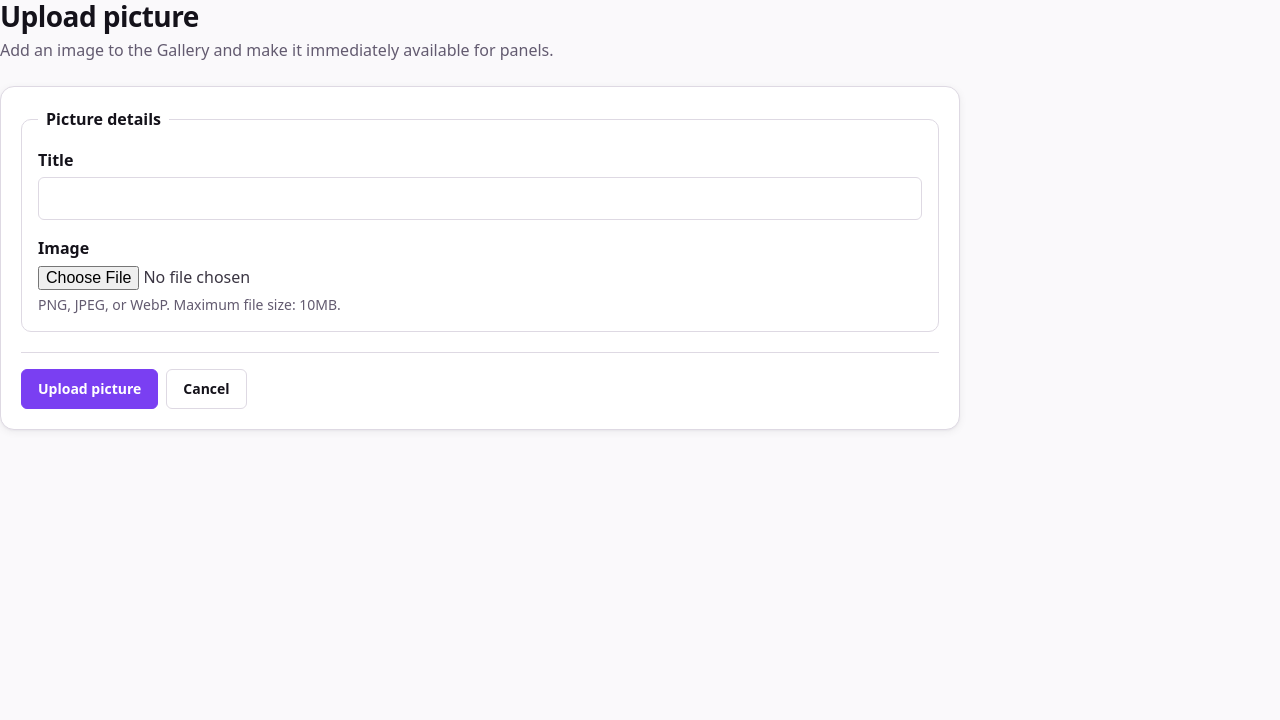
Scenario: GalleryUploadPage › protects unsaved changes when canceling
Type "Unfinished" into the field labelled "Title" at {"x": 480, "y": 198}, box [38,177,922,220]
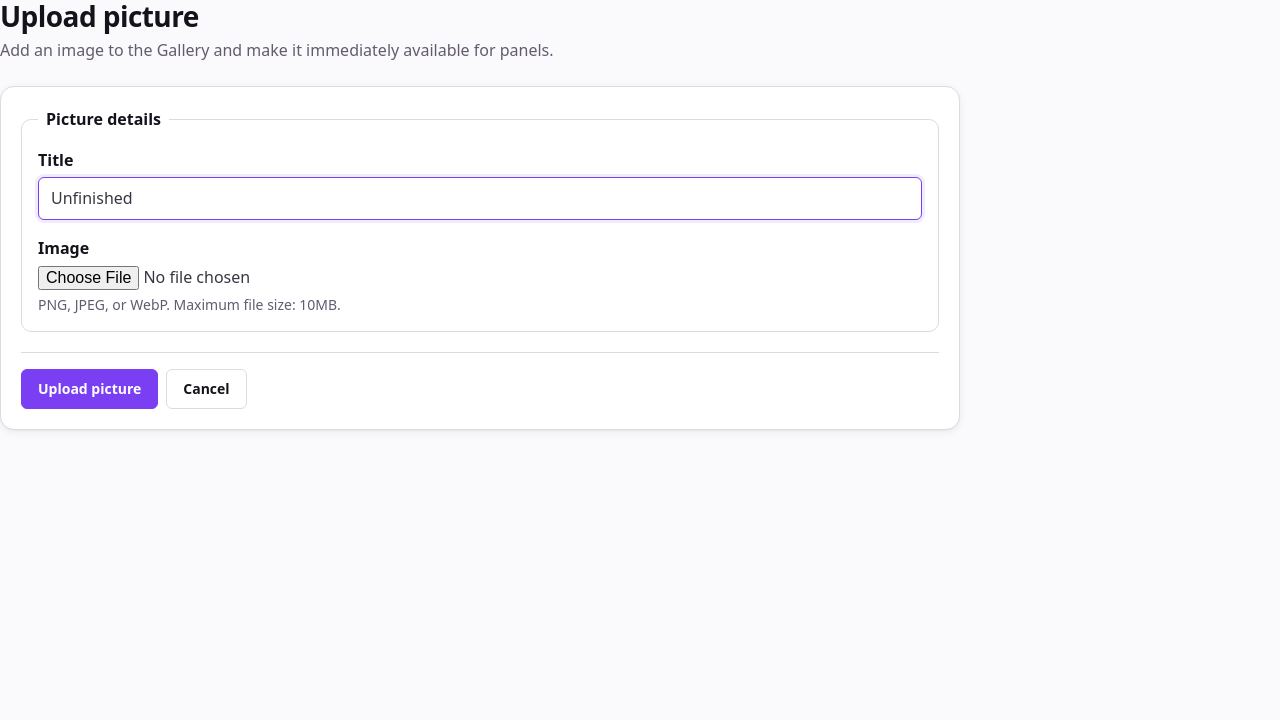
Click the button "Cancel" at {"x": 206, "y": 389}, box [166,369,247,409]
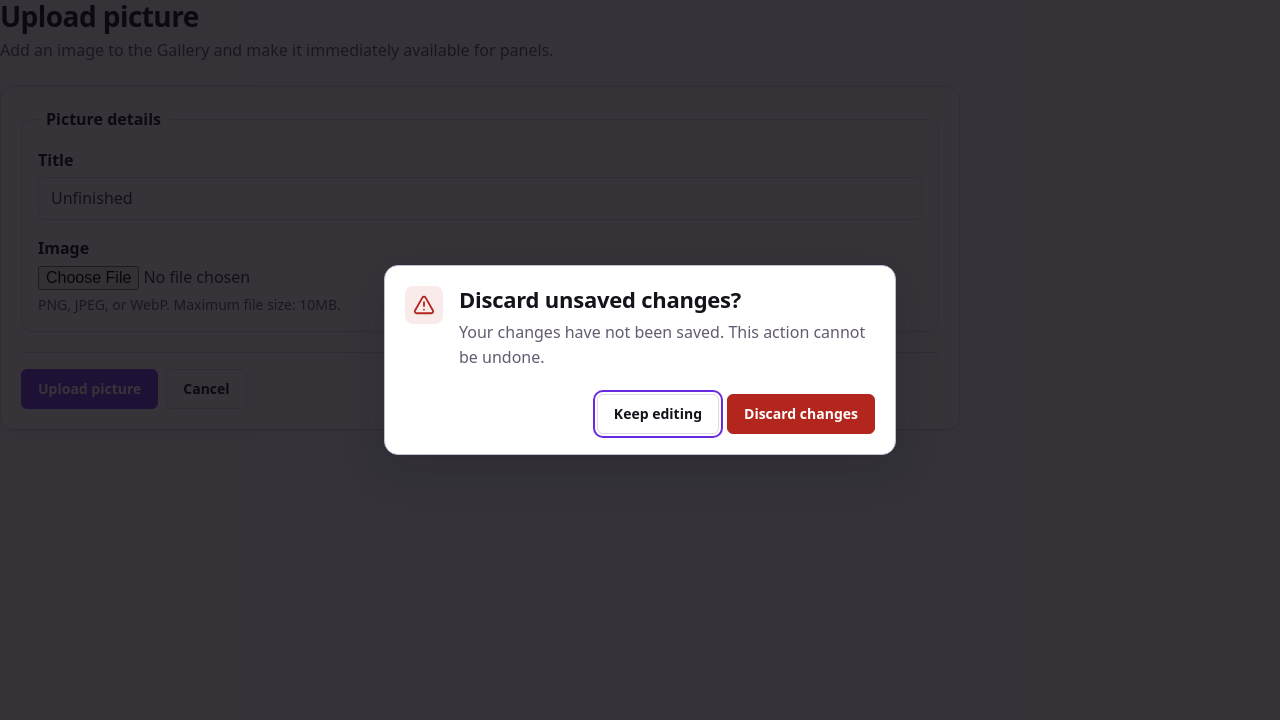
Expected: the dialog "Discard unsaved changes?" is shown, [384,265,896,455]
